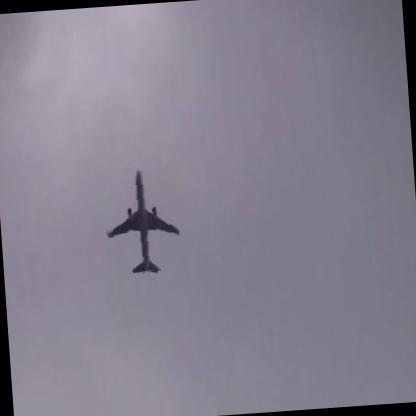plane: (100, 165, 183, 275)
